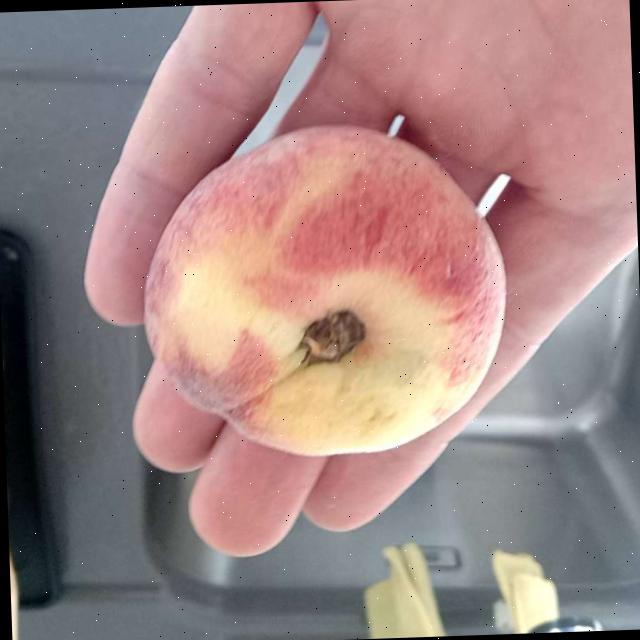peach: (149, 130, 497, 463)
